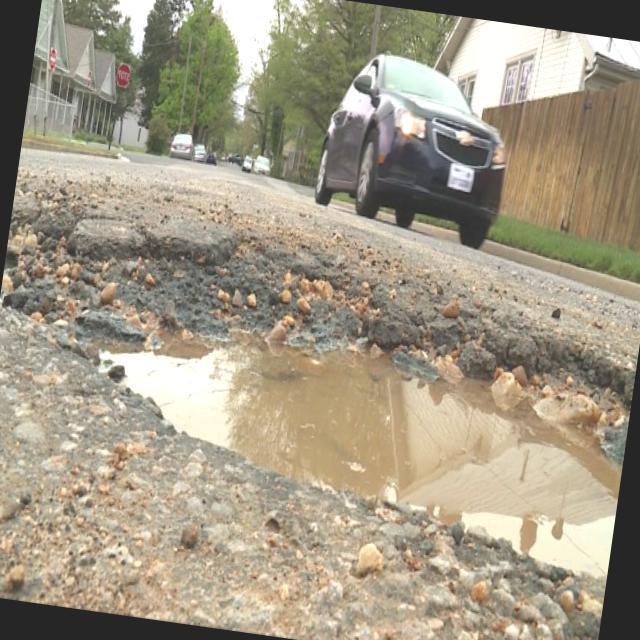bad-road: (0, 199, 640, 573)
